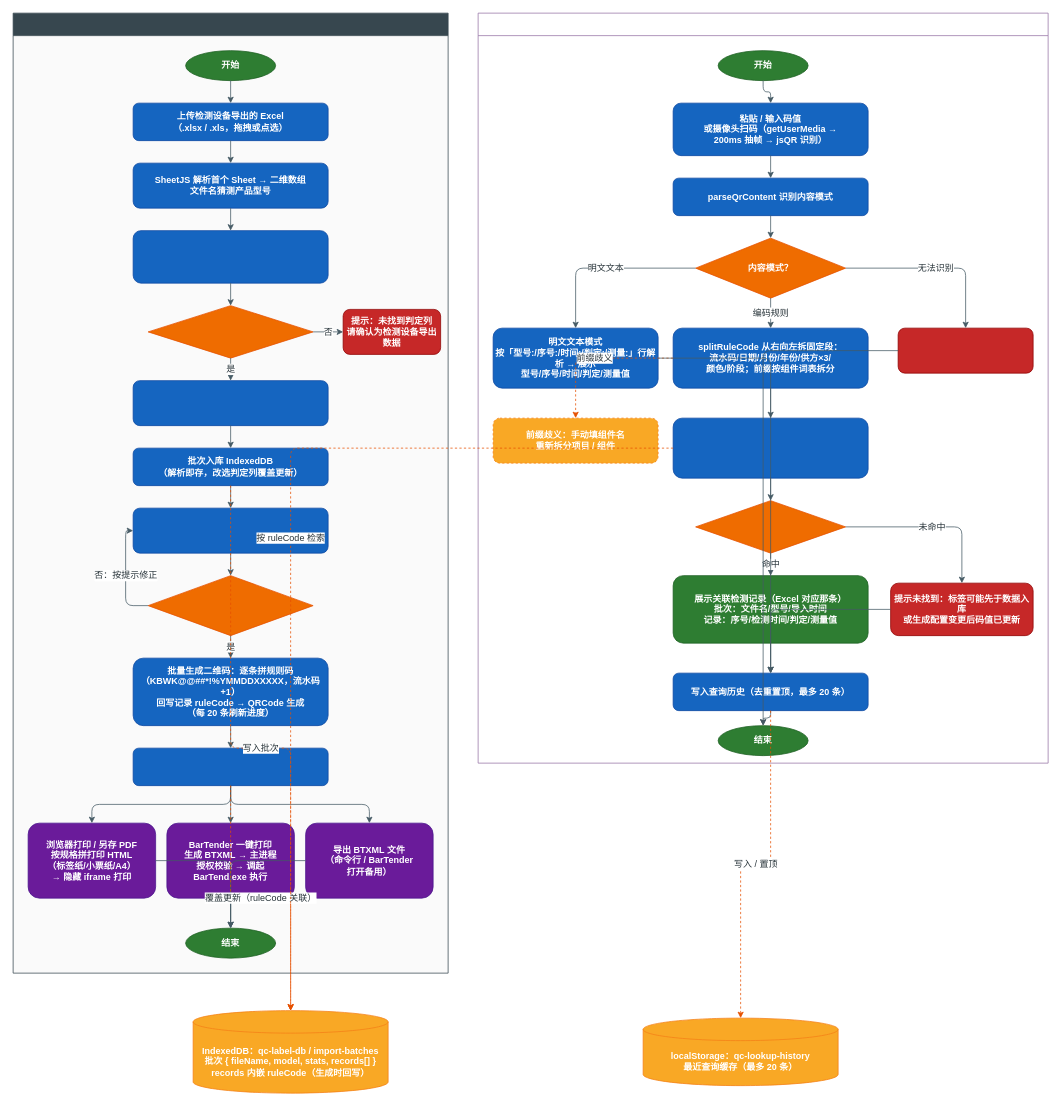
This 1061x1106 diagram has some shape labels left out. Here are the shapes that lost their labels. From the top down, the box of each, then its label:
(132, 230, 328, 283): 自动识别列：判定列（OK/NG 占比最多） ← 左侧找时间列、序号列 → 右侧收集测量列
(147, 305, 313, 358): 找到判定列且 存在 OK/NG 值？
(897, 327, 1033, 373): 展示无法识别原因 （保留原始输入）
(132, 380, 328, 426): 构建结构化记录（序号/时间/判定/测量） 统计：总数 / OK / NG
(477, 12, 1048, 763): 查询端 · 溯源查询（QrLookup.vue）
(672, 417, 868, 478): findByRuleCode：遍历本机批次 按完整码值匹配记录 ruleCode （大小写不敏感，多批次全返回）
(12, 12, 448, 973): 生成端 · 标签生成（QcLabel.vue）
(132, 507, 328, 553): 配置编码规则：项目/组件/试制阶段/ 颜色/供方×3/年月日/流水码起始
(695, 500, 846, 553): 命中关联记录？
(147, 575, 313, 636): 规则校验通过？ （项目/组件必填，手动日期已选）
(132, 747, 328, 786): 规则码关联随批次覆盖入库
